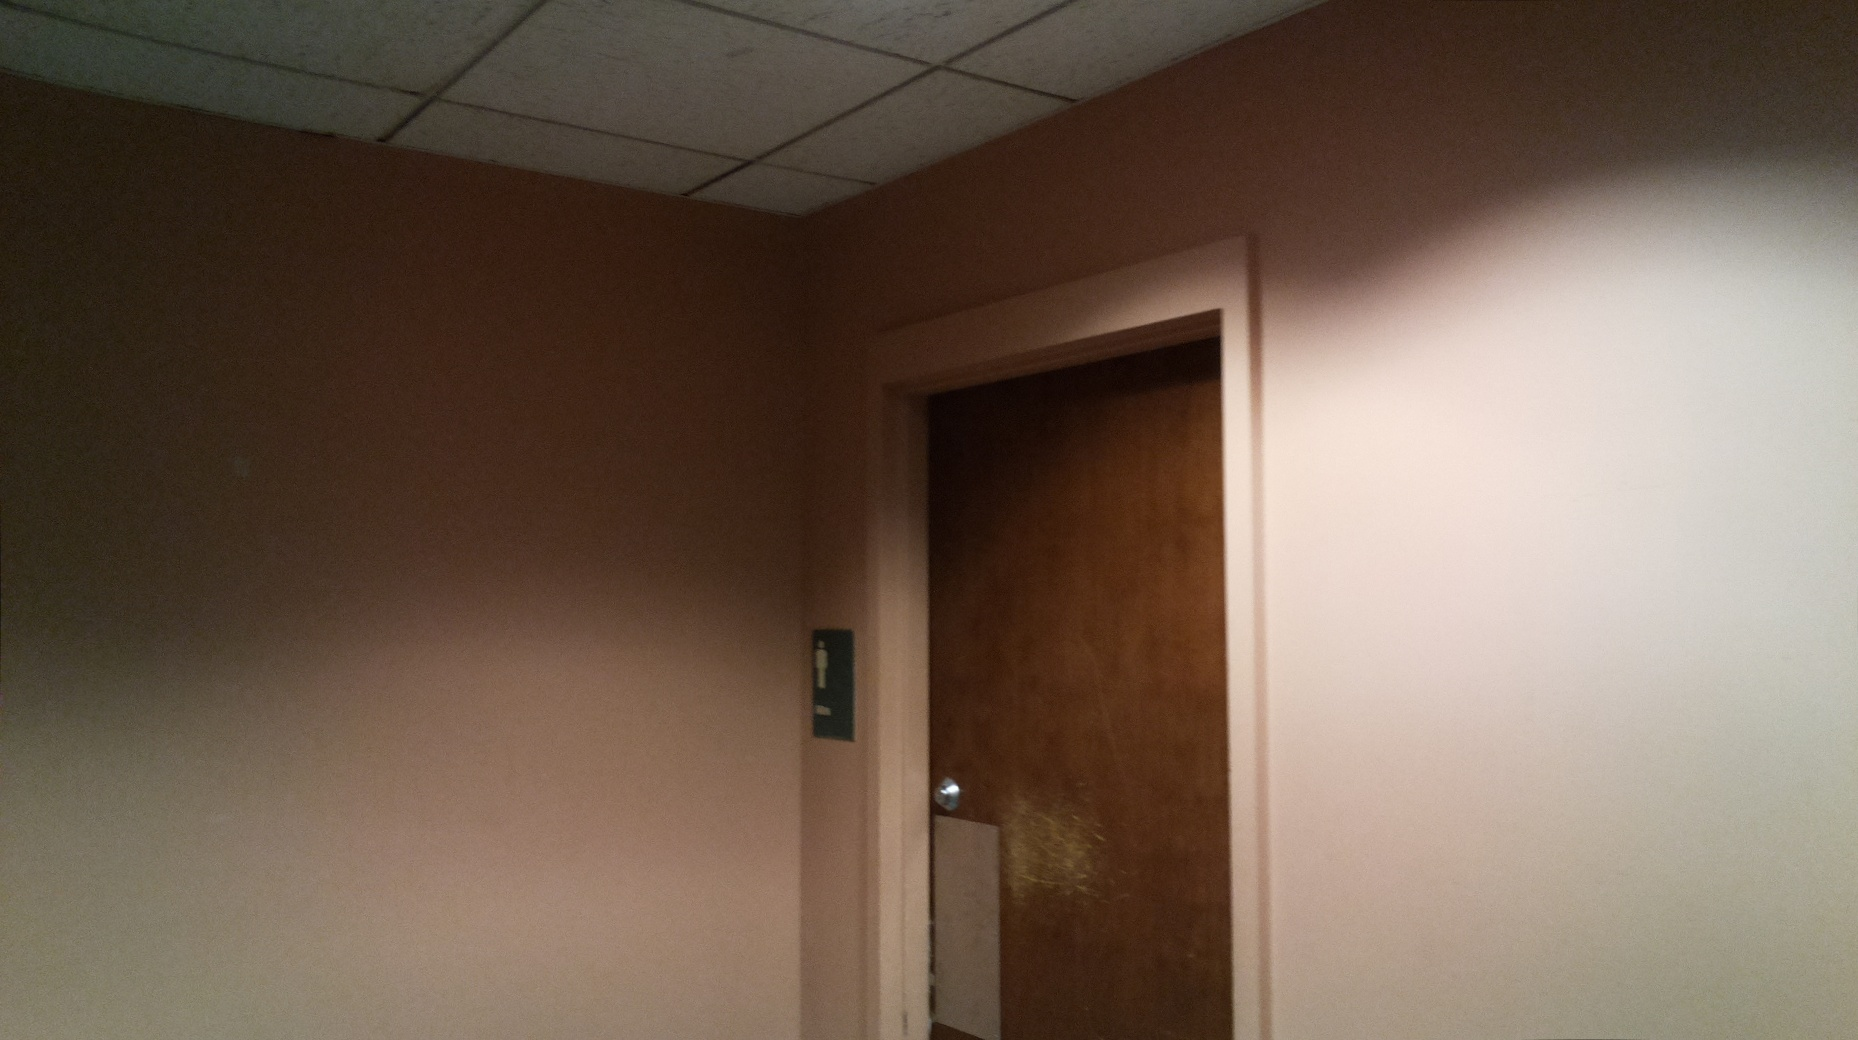bathroom sign: (806, 620, 859, 747)
